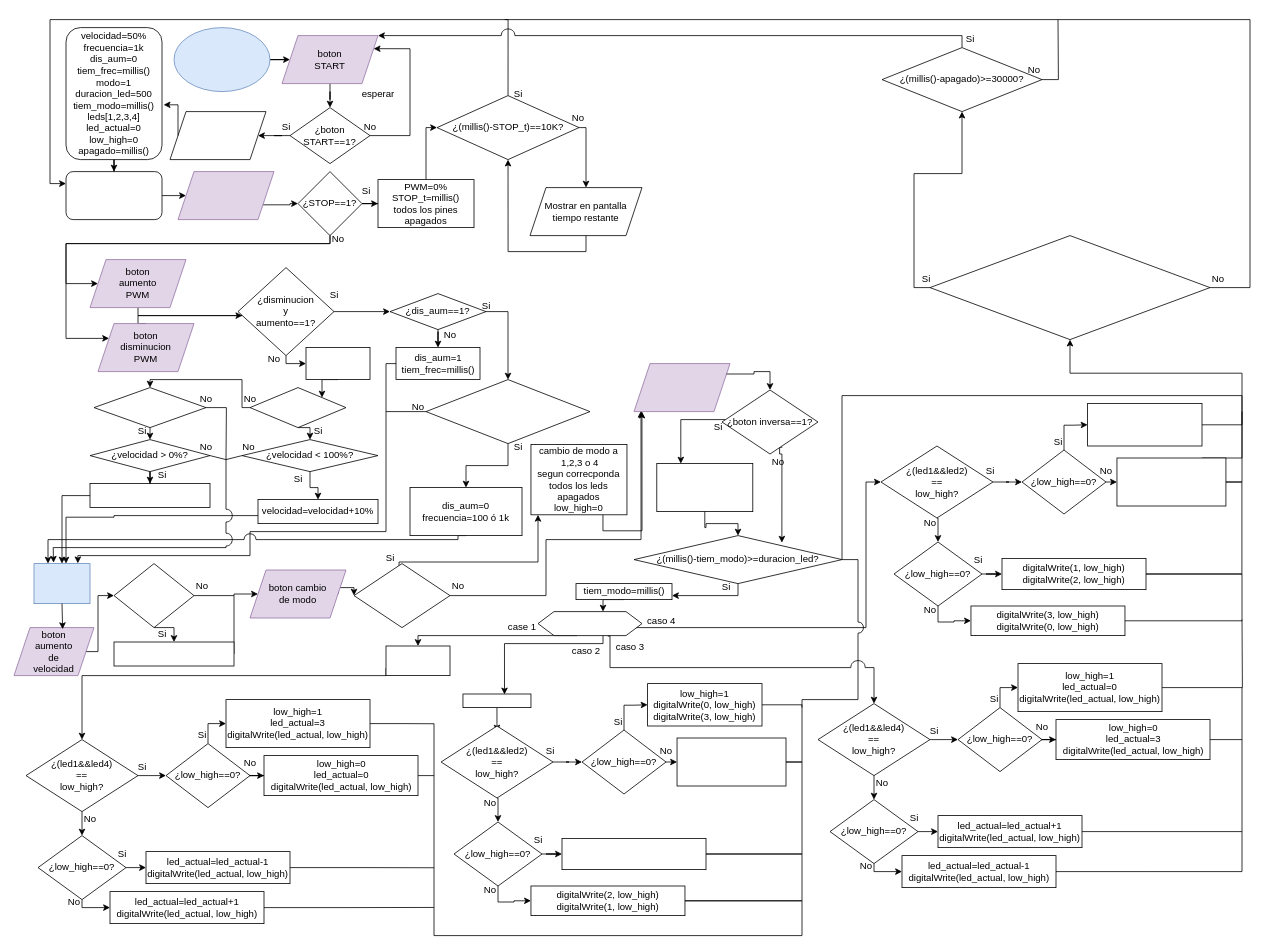
This 1265x950 diagram has some shape labels left out. Each missing label, with the box of its shape:
boton invercion: (633, 363, 730, 412)
boton STOP: (177, 171, 274, 220)
boton1,...,boton6 == boton valor actual1,....., boton valor actual6: (929, 235, 1210, 340)
digitalWrite(0, low_high) digitalWrite(3, low_high): (561, 838, 706, 870)
dis_aum=0: (305, 347, 370, 380)
duracion_led=250 ó 500: (113, 641, 234, 666)
encendido led indicador: (169, 111, 266, 160)
INICIO: (173, 27, 270, 92)
low_high=0 digitalWrite(2, low_high) digitalWrite(1, low_high): (676, 737, 786, 786)
low_high=0 digitalWrite(3, low_high) digitalWrite(0, low_high): (1116, 457, 1226, 506)
low_high=1 digitalWrite(1, low_high) digitalWrite(2, low_high): (1087, 403, 1202, 446)
modo 2: (462, 693, 531, 708)
Modo normal: (385, 645, 450, 676)
modo=modo+2: (656, 463, 753, 512)
mostrar en pantalla PWM: (33, 563, 90, 604)
Motor PWM=velocidad hz=frecuencia: (65, 171, 162, 220)
switch modo: (537, 611, 642, 636)
velocidad=velocidad-10%: (89, 483, 210, 508)
¿(millis()-tiem_frec)>=1000?: (425, 379, 590, 444)
¿aum_vel==1?: (113, 563, 194, 628)
¿aumentar==1?: (249, 387, 346, 428)
¿cam_modo==1?: (353, 563, 450, 628)
¿disminucion==1?: (93, 387, 206, 428)
